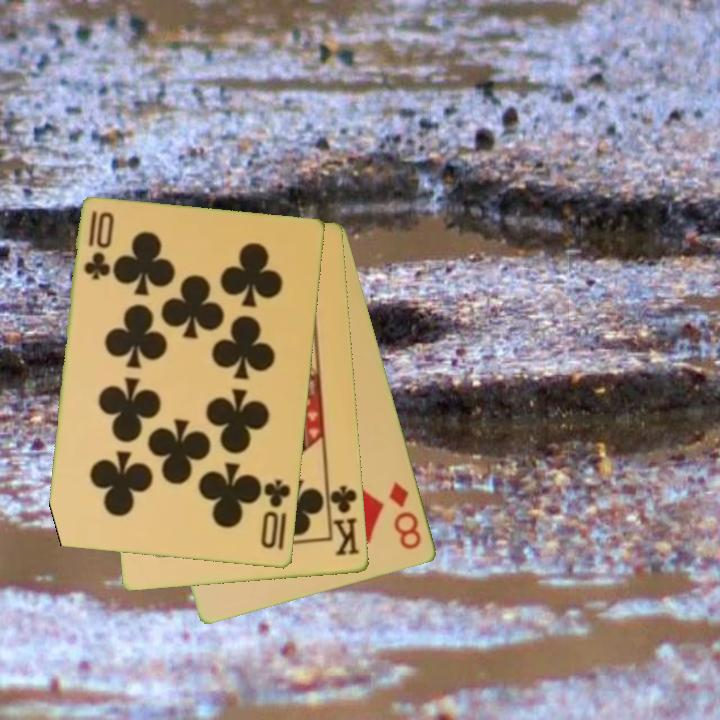10c: (257, 476, 294, 552), (80, 208, 111, 284)
8d: (386, 479, 425, 553)
Kc: (324, 480, 363, 559)
